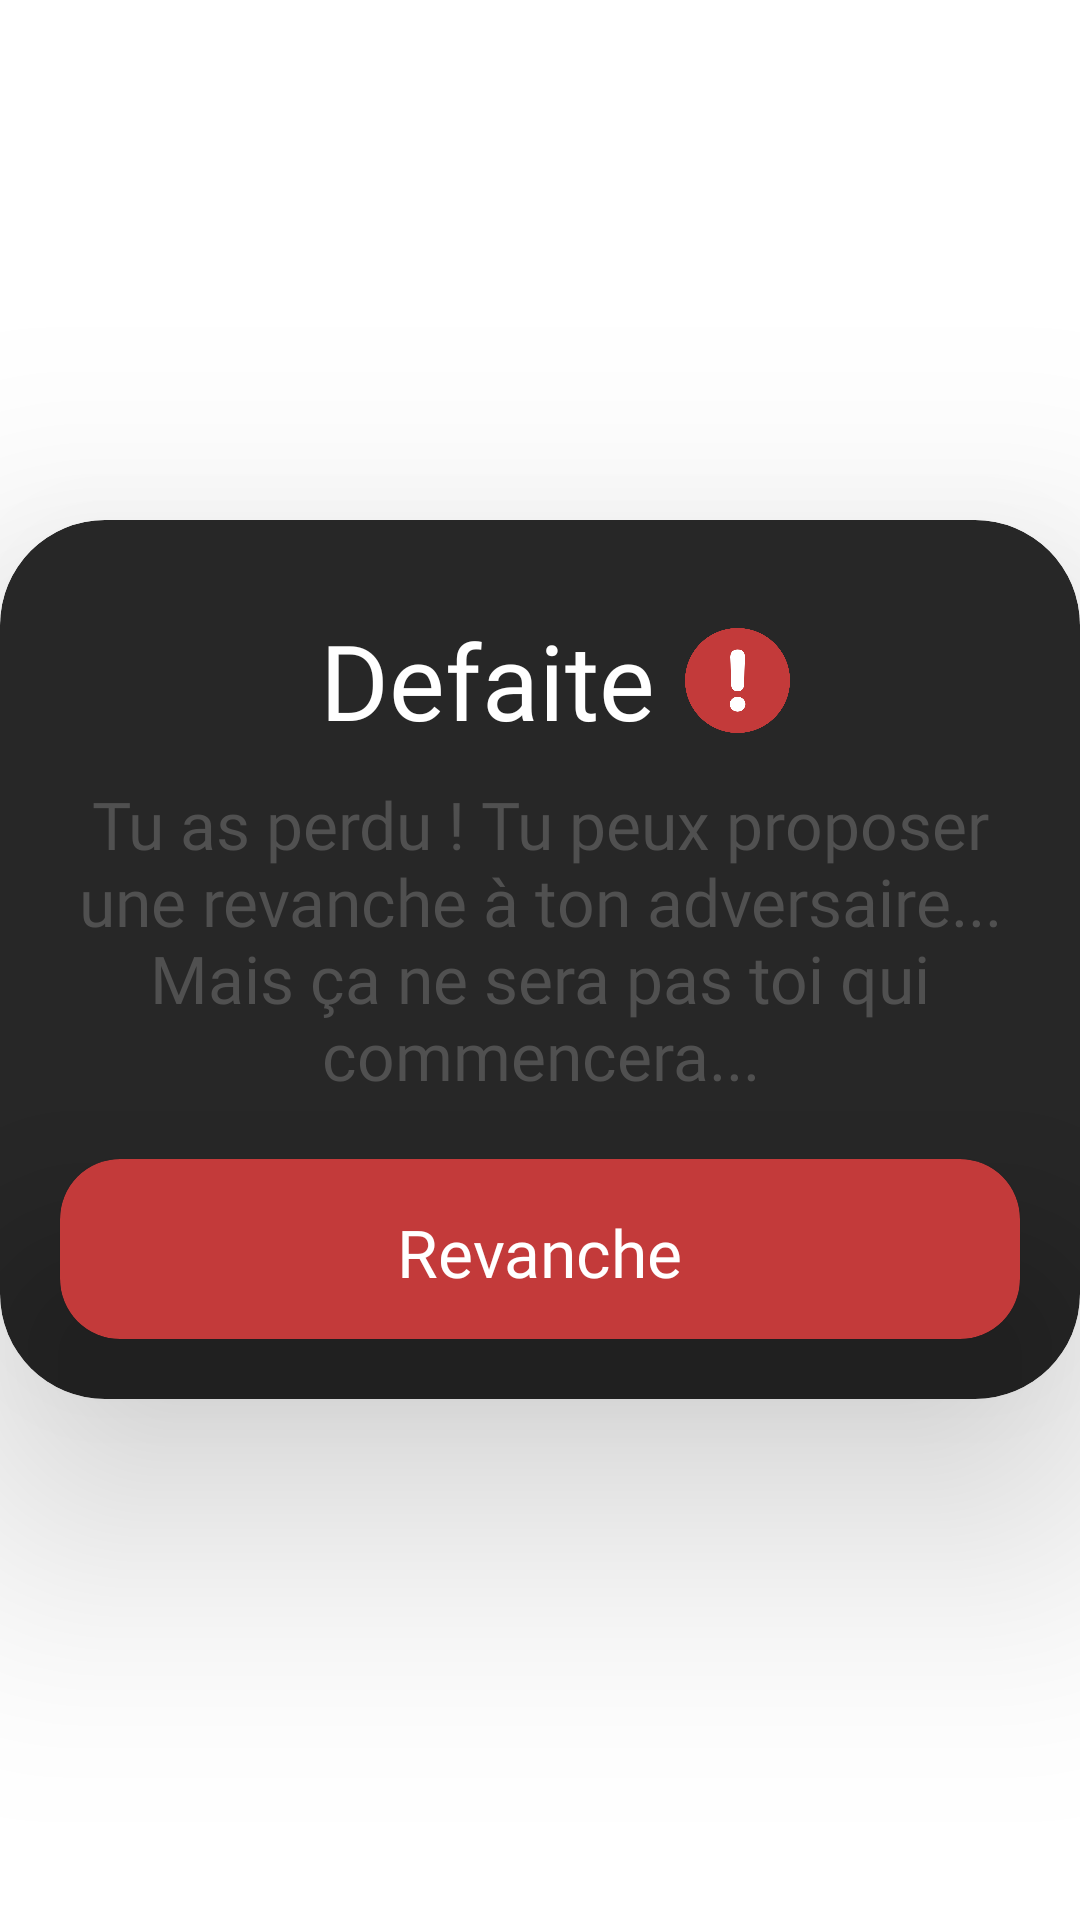

Where icons sit on this 1080 × 1920 app screen, as {"x1": x1, "y1": y1, "x2": x2, "y2": y2}:
erreur: {"x1": 685, "y1": 628, "x2": 790, "y2": 733}
